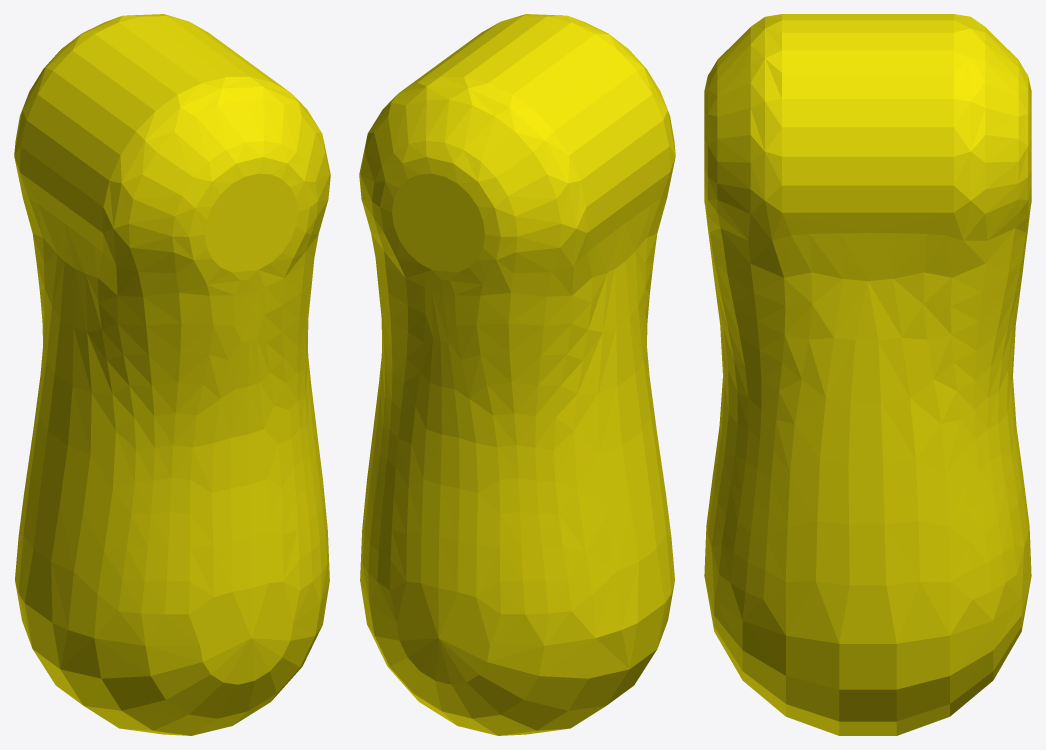
3 renders of one model, left to right at view 1: azimuth 30°, elevation 25°; view 2: azimuth 150°, elevation 25°; view 3: azimuth 270°, elevation 25°, orthographic. The views are drawn at different scales.
Parts seen in each view (by area): view 1: th_middle; view 2: th_middle; view 3: th_middle.
Part boxes in pixels (x1,y1,x2,y2): th_middle: [14, 14, 330, 735]; th_middle: [359, 14, 675, 735]; th_middle: [704, 14, 1031, 735].
Size of the model in its own units: 21.63 by 22.09 by 51.62.
